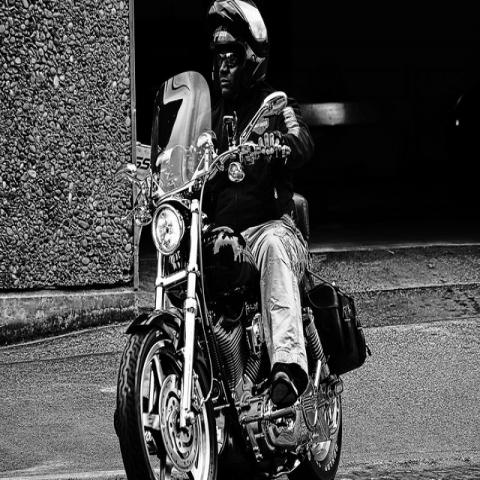motorcycle: (109, 134, 343, 474)
